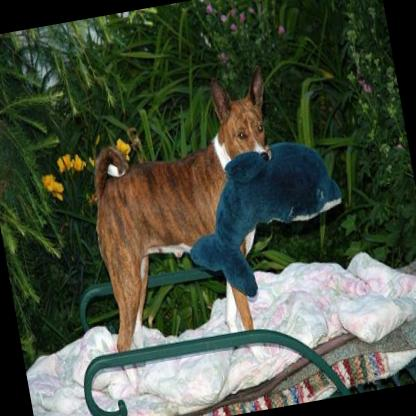basenji: (69, 58, 307, 354)
